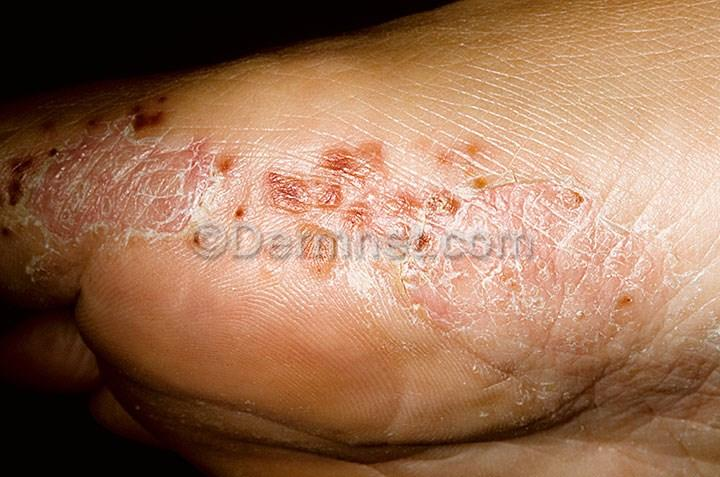Eczema: (335, 229, 446, 311), (306, 130, 399, 227), (569, 183, 643, 292), (127, 144, 229, 223), (55, 155, 149, 239), (464, 166, 572, 233), (458, 238, 540, 317), (409, 156, 483, 239), (432, 110, 508, 186), (169, 220, 260, 282), (594, 287, 661, 370), (233, 152, 304, 228), (652, 343, 720, 420), (0, 213, 95, 268), (525, 227, 573, 335), (269, 222, 343, 292), (112, 83, 187, 148), (534, 332, 596, 406), (469, 317, 527, 395), (0, 142, 65, 211), (46, 96, 114, 160), (596, 374, 656, 446)
